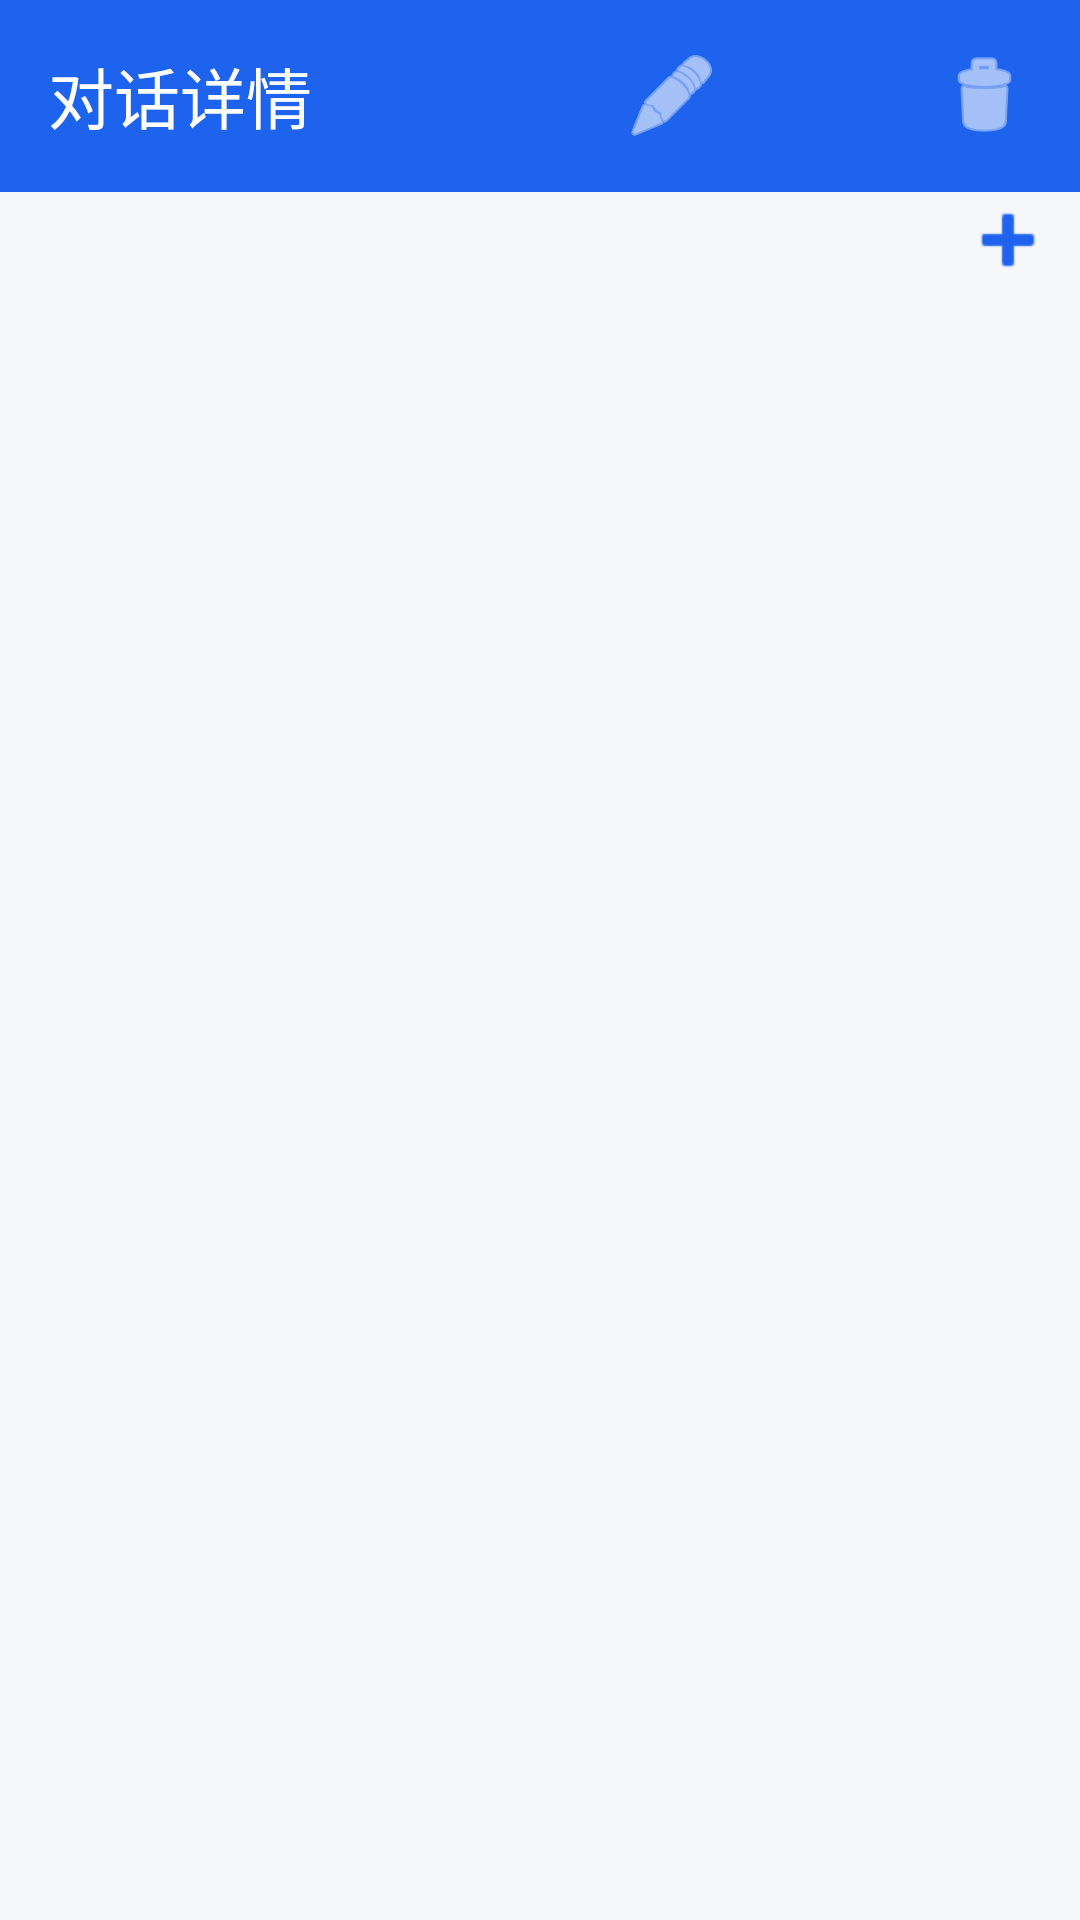

Icon bounding boxes for this 1080*1920 phone screenshot, format rect(x1, y1, x2, y2):
删除: rect(957, 57, 1012, 132)
添加标签: rect(981, 213, 1035, 267)
